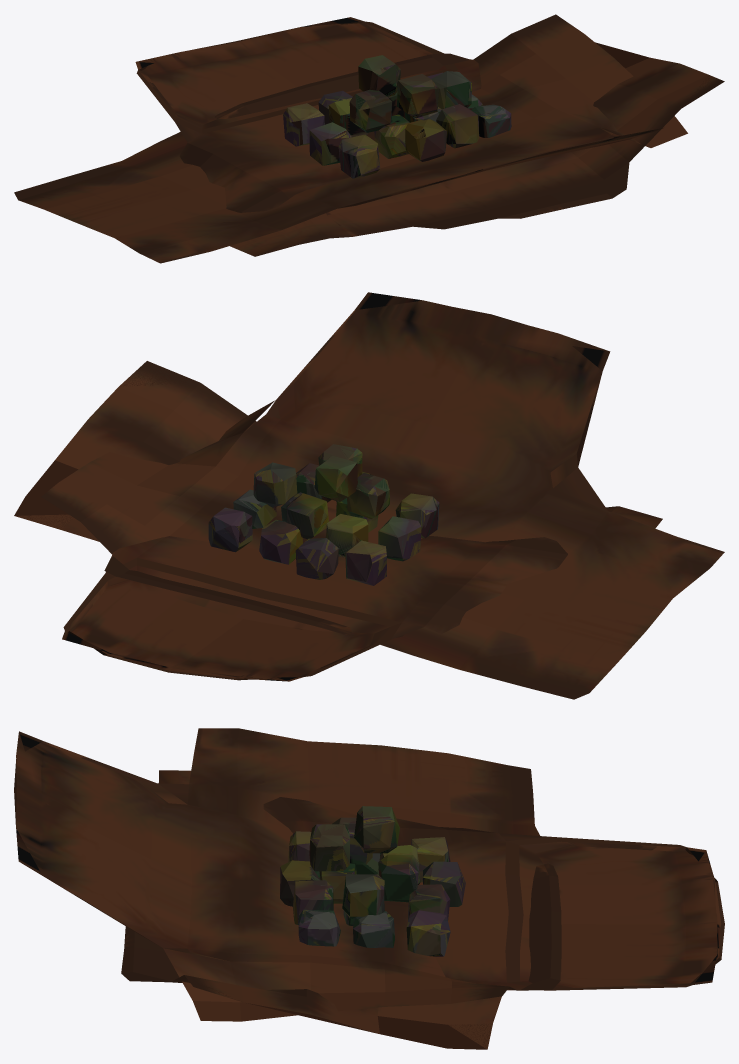
Rendered from Breakable_Box_Broken.glb.
3 views of the same model, one above another, from view 1: azimuth 30°, elevation 25°; view 2: azimuth 150°, elevation 25°; view 3: azimuth 270°, elevation 25° (orthographic). The views are drawn at different scales.
Parts seen in each view (by area): view 1: Box.001, Food.001; view 2: Box.001, Food.001; view 3: Box.001, Food.001.
Part boxes in pixels (x1=…): Box.001: x1=14, y1=14, x2=724, y2=263; Food.001: x1=283, y1=55, x2=511, y2=178; Box.001: x1=14, y1=292, x2=724, y2=699; Food.001: x1=208, y1=444, x2=439, y2=585; Box.001: x1=14, y1=728, x2=724, y2=1049; Food.001: x1=280, y1=806, x2=465, y2=956.
Bounding box in the file's own units: 4.13 × 0.9312 × 3.89.
2 materials, 2 textured.
